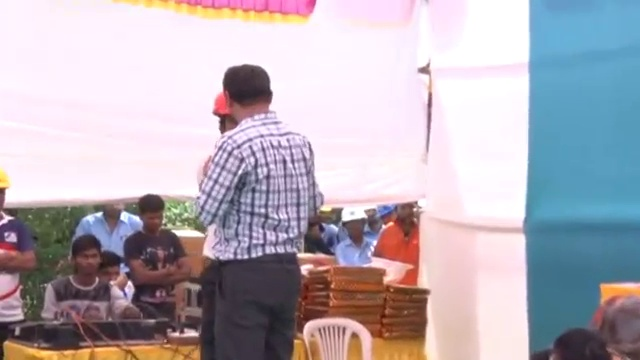helmet: (369, 255, 413, 283), (341, 205, 368, 223), (375, 204, 394, 219)
helmet_off: (209, 67, 282, 130), (595, 291, 640, 354), (69, 236, 103, 283), (132, 200, 166, 236), (97, 249, 122, 290), (391, 208, 422, 234), (99, 202, 126, 226), (317, 208, 337, 225)
helmet_on: (341, 205, 368, 244), (375, 204, 395, 226)
person: (171, 52, 322, 360), (110, 195, 194, 337), (40, 233, 133, 332), (0, 189, 35, 337), (372, 207, 423, 283), (73, 203, 144, 257), (331, 206, 377, 272), (312, 207, 339, 246)
